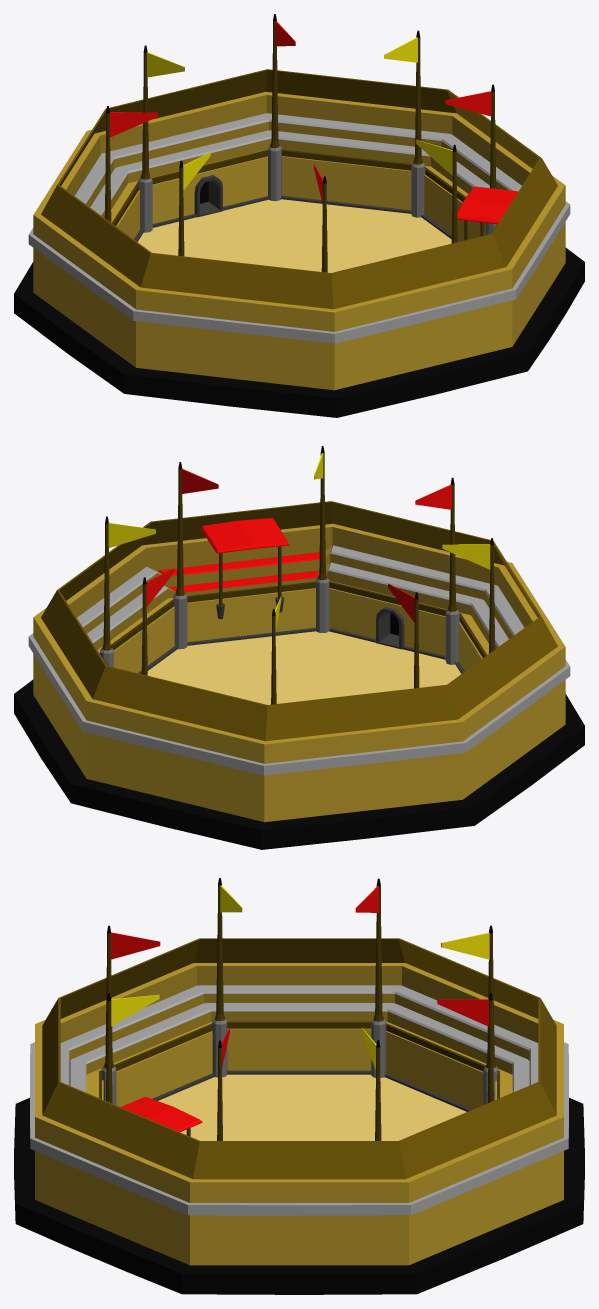
Rendered from gladiators_arena.glb.
The picture shows the model from 3 angles, top to bottom: view 1: azimuth 30°, elevation 25°; view 2: azimuth 150°, elevation 25°; view 3: azimuth 270°, elevation 25°; orthographic projection. The views are drawn at different scales.
Visible parts, largest first — view 1: Arena, Flags, Doors; view 2: Arena, Flags, Doors; view 3: Arena, Flags.
Part boxes in pixels (box(x1,y1,x2,y2)): Arena: box(14, 69, 584, 417); Flags: box(104, 14, 497, 272); Doors: box(194, 175, 222, 217); Arena: box(14, 501, 584, 849); Flags: box(100, 446, 495, 704); Doors: box(376, 607, 404, 649); Arena: box(14, 938, 584, 1294); Flags: box(101, 878, 498, 1140).
Size of the model in its own units: 49.87 by 20.71 by 49.87.
1 material, 1 textured.
